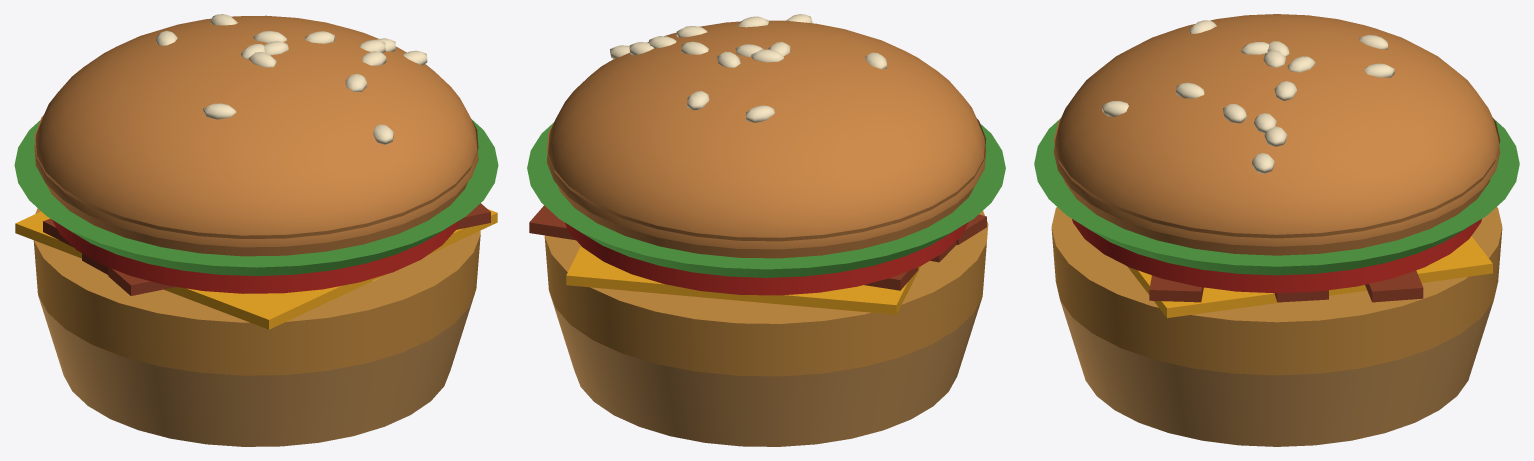
Rendered from burger-pollo.glb.
3 renders of one model, left to right at view 1: azimuth 30°, elevation 25°; view 2: azimuth 150°, elevation 25°; view 3: azimuth 270°, elevation 25°, orthographic.
Size of the model in its own units: 0.1623 by 0.118 by 0.1623.
